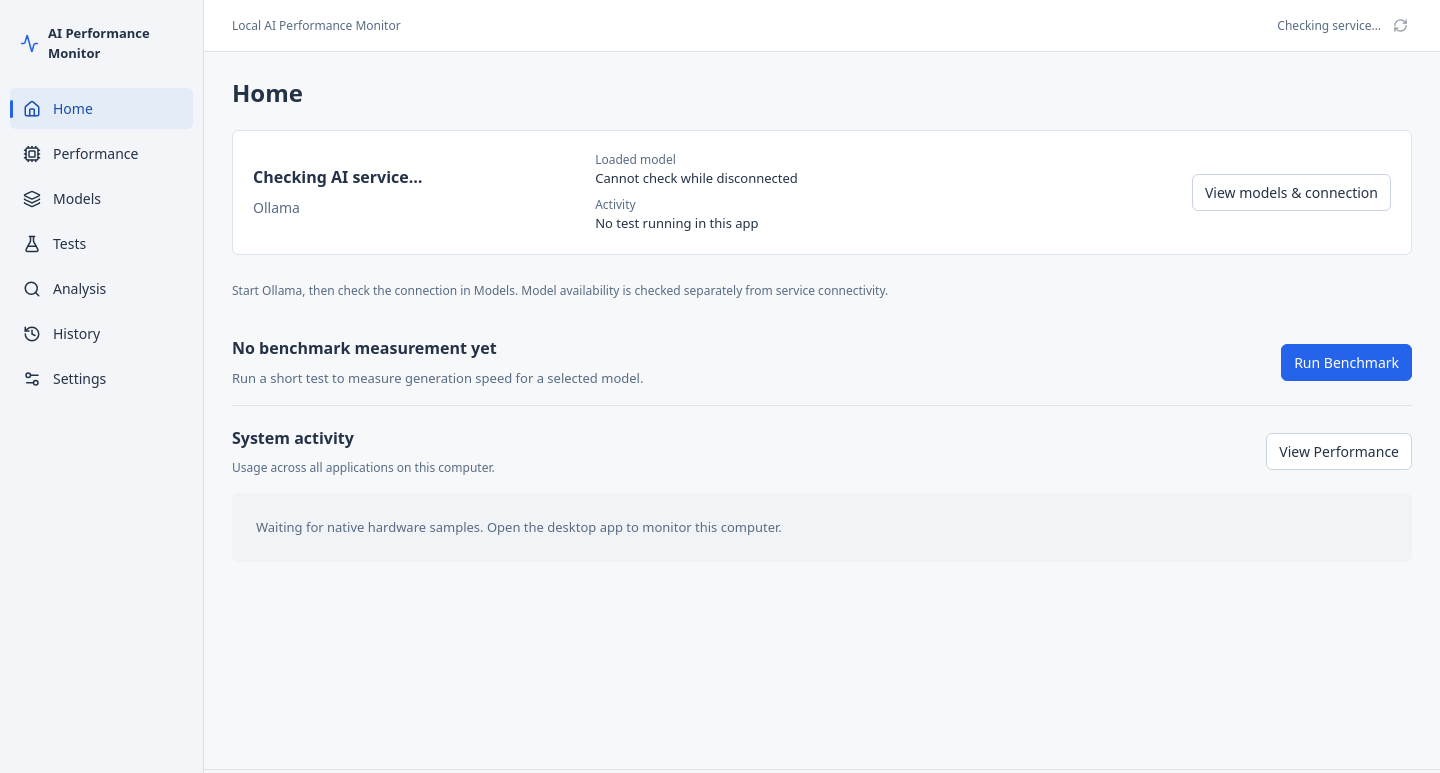
Test: preserves an advanced experiment while switching primary and secondary destinations
The image size is (1440, 773).
What coordinates should you click on to do the following:
click the button "Tests"
I would click on:
 (102, 244)
Its box is [10, 223, 193, 264].
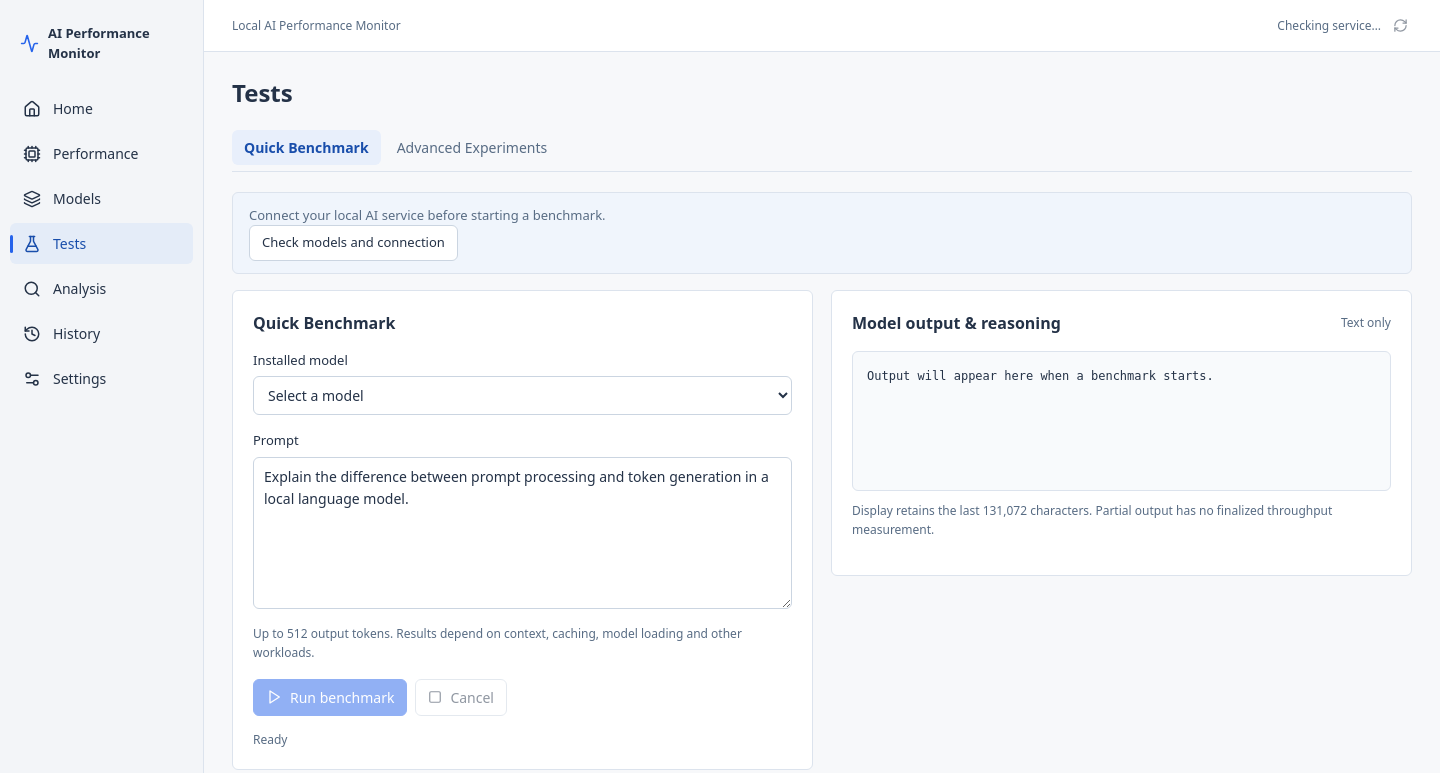
What coordinates should you click on to do the following:
click the button "Advanced Experiments"
I would click on:
 (472, 147)
Its box is [385, 130, 559, 165].
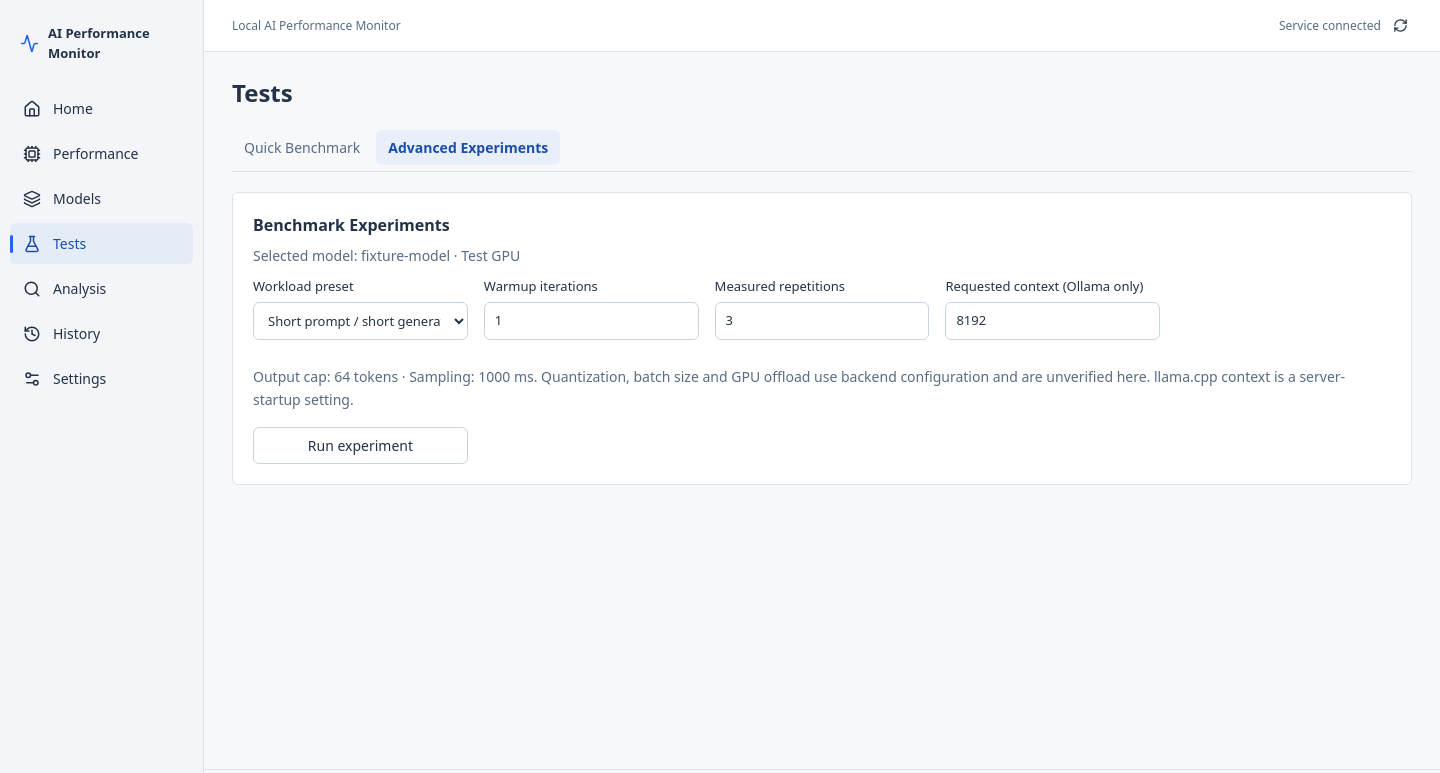
Expected: the button "Run experiment" is enabled
What coordinates should you click on to do the following:
click the button "Run experiment"
I would click on:
 (360, 446)
Its box is [253, 427, 468, 464].
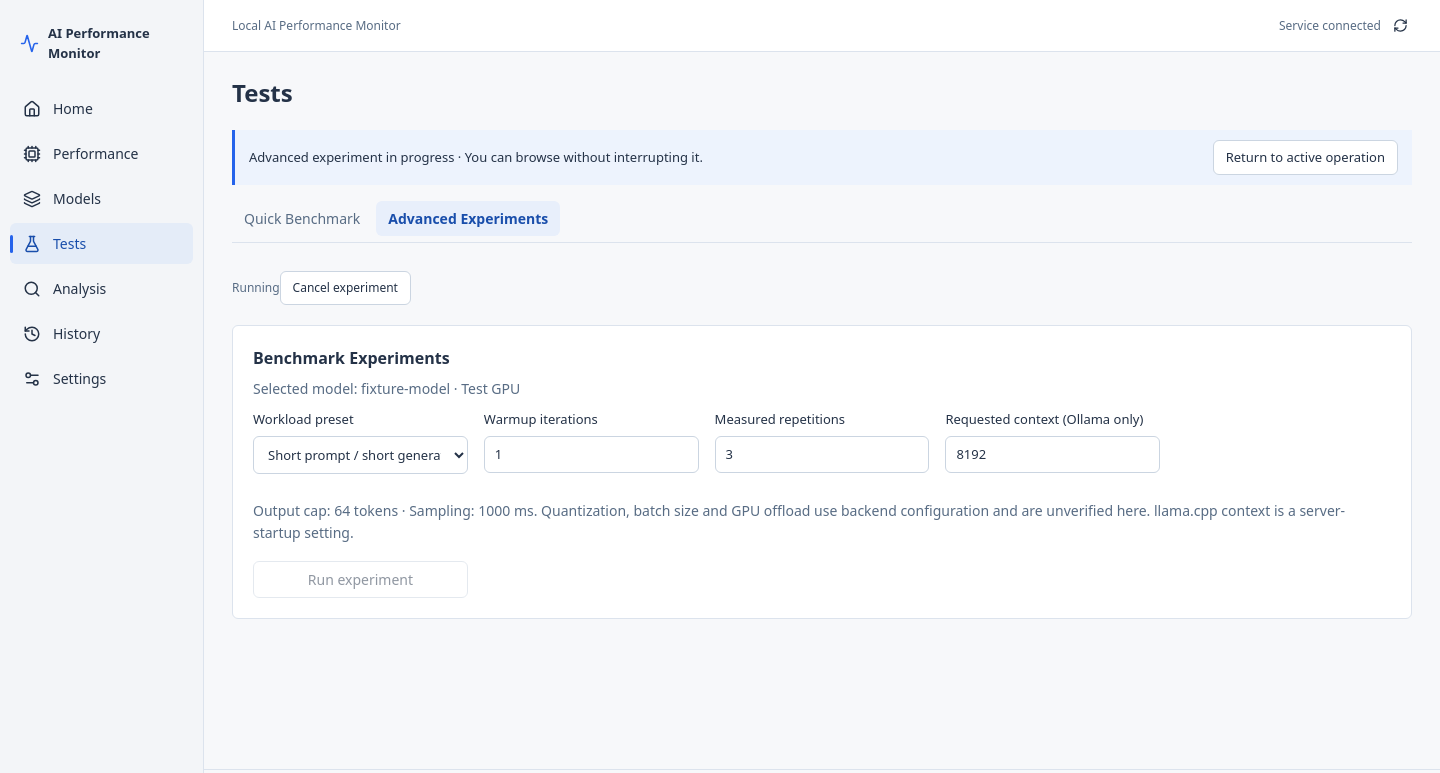
What coordinates should you click on to do the following:
click the button "Performance"
I would click on:
 (102, 154)
Its box is [10, 133, 193, 174].
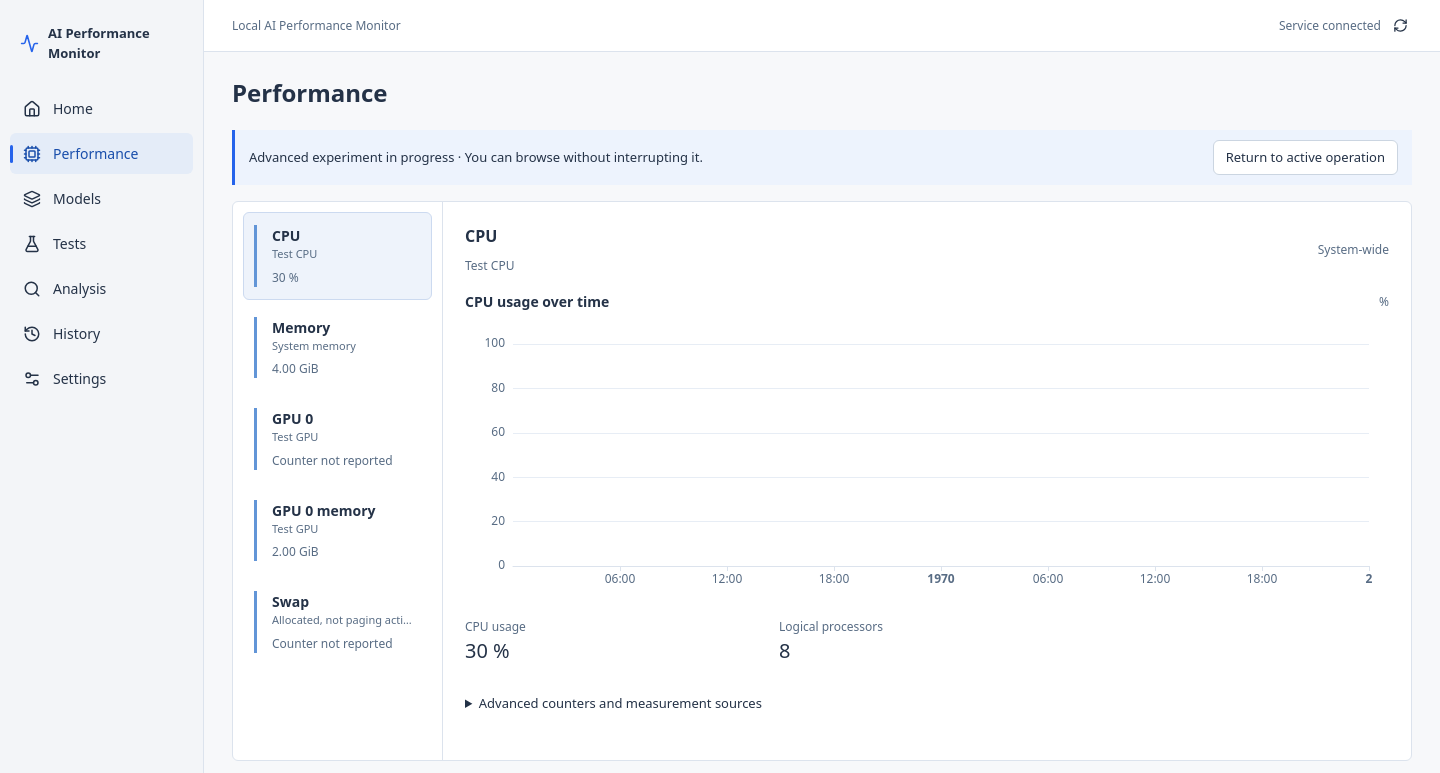
Expected: the text "Advanced experiment in progress" is shown, [249, 148, 454, 166]
What coordinates should you click on to do the following:
click the button "Return to active operation"
I would click on:
 (1305, 157)
Its box is [1213, 140, 1398, 175].
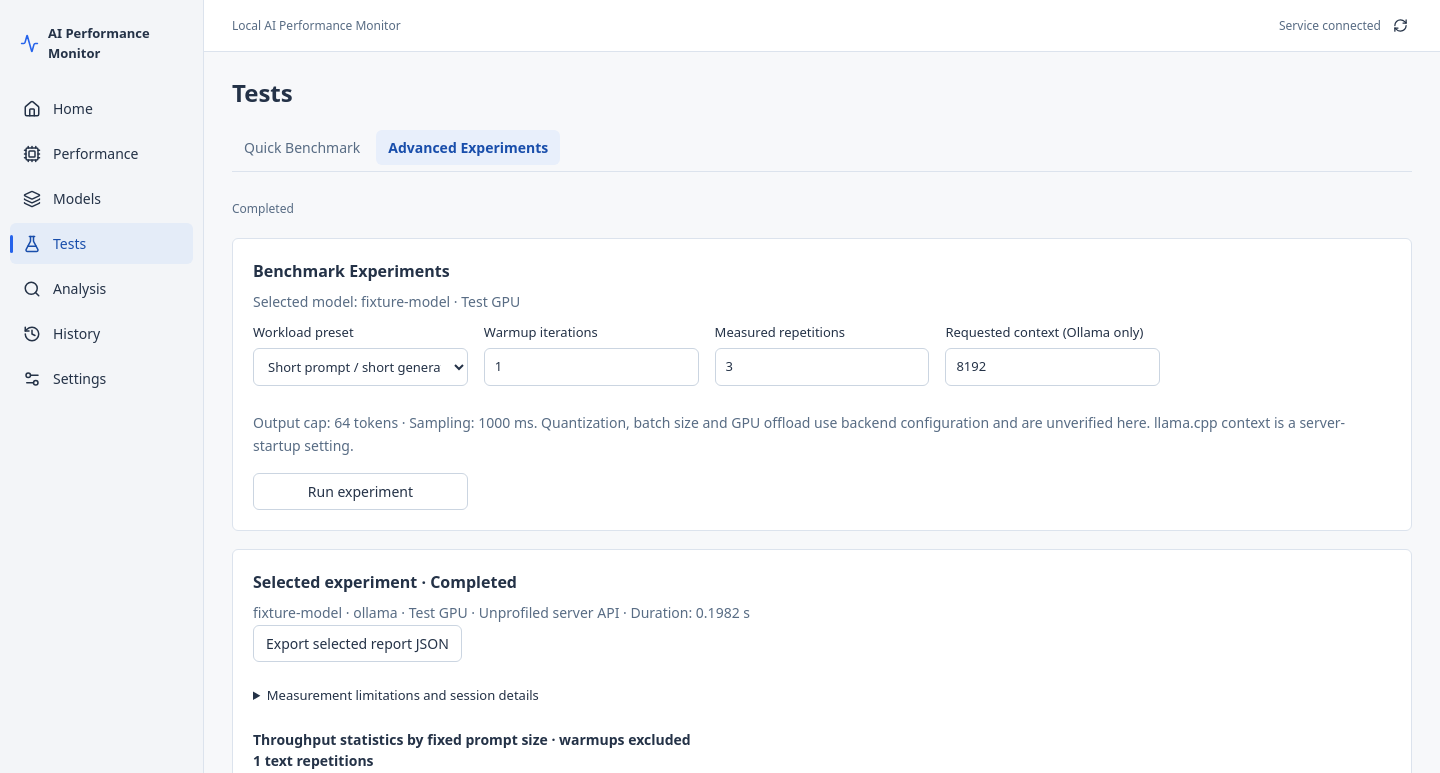
Expected: the heading "Selected experiment · Completed" is shown, [253, 571, 517, 593]
